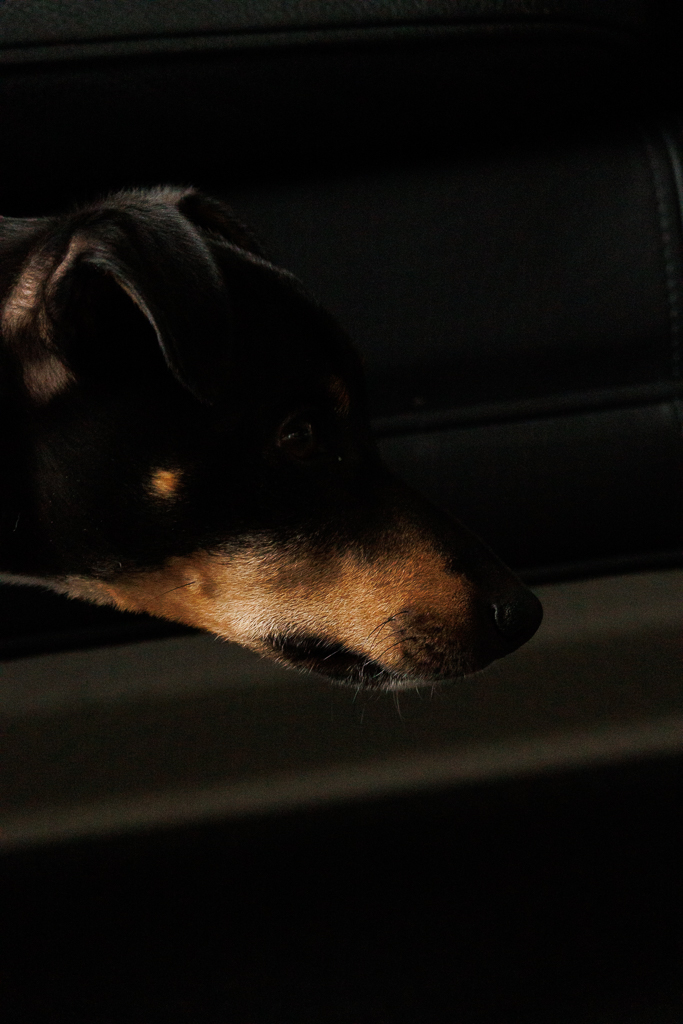Dog: (0, 168, 560, 716)
